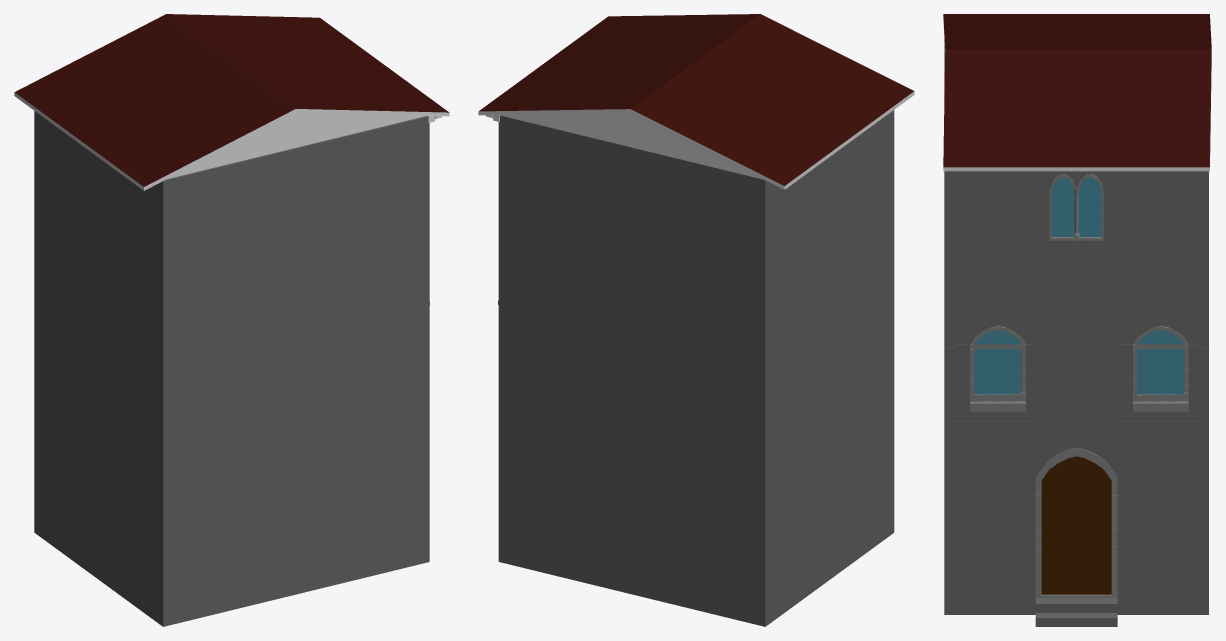
File: Maison1.fbx
The picture shows the model from 3 angles, left to right: view 1: azimuth 30°, elevation 25°; view 2: azimuth 150°, elevation 25°; view 3: azimuth 270°, elevation 25°; orthographic projection. The views are drawn at different scales.
Visible parts, largest first — view 1: Maison, Toit; view 2: Maison, Toit; view 3: Maison, Toit, PorteEscalier, EmplacementPorte, FenêtreCourbRebord.001, FenêtreCourbRebord, EmpacementFenêtreCourb, EmpacementFenêtreCourb.001, EmplacementFenêtreDouble, FenetreCaro.
Boxes of the visible parts, x1=… form: Maison: x1=34, y1=111, x2=429, y2=626; Toit: x1=14, y1=14, x2=449, y2=190; Maison: x1=498, y1=110, x2=894, y2=626; Toit: x1=478, y1=14, x2=914, y2=189; Maison: x1=944, y1=40, x2=1208, y2=614; Toit: x1=943, y1=14, x2=1211, y2=171; PorteEscalier: x1=1035, y1=447, x2=1117, y2=626; EmplacementPorte: x1=1013, y1=437, x2=1139, y2=614; FenêtreCourbRebord.001: x1=970, y1=325, x2=1025, y2=411; FenêtreCourbRebord: x1=1133, y1=325, x2=1188, y2=411; EmpacementFenêtreCourb: x1=1117, y1=318, x2=1198, y2=421; EmpacementFenêtreCourb.001: x1=954, y1=318, x2=1035, y2=421; EmplacementFenêtreDouble: x1=1036, y1=171, x2=1116, y2=267; FenetreCaro: x1=1049, y1=174, x2=1103, y2=240.
Size of the model in its own units: 582 by 871 by 425.
